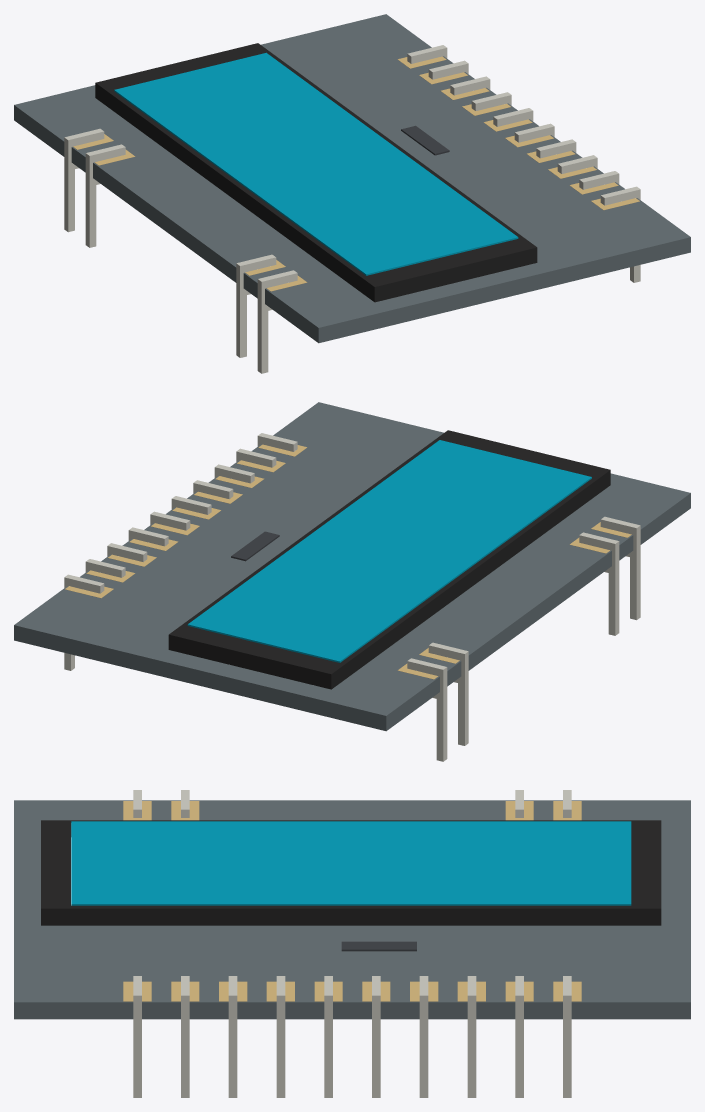
File: kc-ea_dogs104x-a.glb
The picture shows the model from 3 angles, top to bottom: view 1: azimuth 30°, elevation 25°; view 2: azimuth 150°, elevation 25°; view 3: azimuth 270°, elevation 25°; orthographic projection. The views are drawn at different scales.
Parts seen in each view (by area): view 1: 0.16666666666666666_0.16666666666666666_0.16666666666666666_, 0_0.3333333333333333_0.5_0, 0_0_0_0, 0.6666666666666666_0.6666666666666666_0.5833333333333334_0.8, 0.75_0.5_0.25_0.9, 0.08333333333333333_0.08333333333333333_0.08333333333333333_; view 2: 0.16666666666666666_0.16666666666666666_0.16666666666666666_, 0_0.3333333333333333_0.5_0, 0_0_0_0, 0.6666666666666666_0.6666666666666666_0.5833333333333334_0.8, 0.75_0.5_0.25_0.9, 0.08333333333333333_0.08333333333333333_0.08333333333333333_; view 3: 0.16666666666666666_0.16666666666666666_0.16666666666666666_, 0_0.3333333333333333_0.5_0, 0_0_0_0, 0.6666666666666666_0.6666666666666666_0.5833333333333334_0.8, 0.75_0.5_0.25_0.9, 0.08333333333333333_0.08333333333333333_0.08333333333333333_.
Boxes of the visible parts, box(x1,y1,x2,y2) form: 0.16666666666666666_0.16666666666666666_0.16666666666666666_: box(14, 14, 690, 343); 0_0.3333333333333333_0.5_0: box(114, 52, 518, 275); 0_0_0_0: box(95, 43, 537, 302); 0.6666666666666666_0.6666666666666666_0.5833333333333334_0.8: box(64, 45, 640, 373); 0.75_0.5_0.25_0.9: box(73, 56, 639, 291); 0.08333333333333333_0.08333333333333333_0.08333333333333333_: box(401, 125, 449, 155); 0.16666666666666666_0.16666666666666666_0.16666666666666666_: box(14, 402, 690, 731); 0_0.3333333333333333_0.5_0: box(187, 440, 591, 662); 0_0_0_0: box(168, 430, 610, 689); 0.6666666666666666_0.6666666666666666_0.5833333333333334_0.8: box(64, 433, 640, 761); 0.75_0.5_0.25_0.9: box(65, 444, 631, 679); 0.08333333333333333_0.08333333333333333_0.08333333333333333_: box(231, 531, 279, 561); 0.16666666666666666_0.16666666666666666_0.16666666666666666_: box(14, 800, 690, 1019); 0_0.3333333333333333_0.5_0: box(71, 821, 631, 905); 0_0_0_0: box(41, 820, 661, 925); 0.6666666666666666_0.6666666666666666_0.5833333333333334_0.8: box(133, 790, 571, 1097); 0.75_0.5_0.25_0.9: box(123, 801, 581, 1001); 0.08333333333333333_0.08333333333333333_0.08333333333333333_: box(341, 941, 416, 951).
Size of the model in its own units: 2.59 by 0.66 by 3.6.
